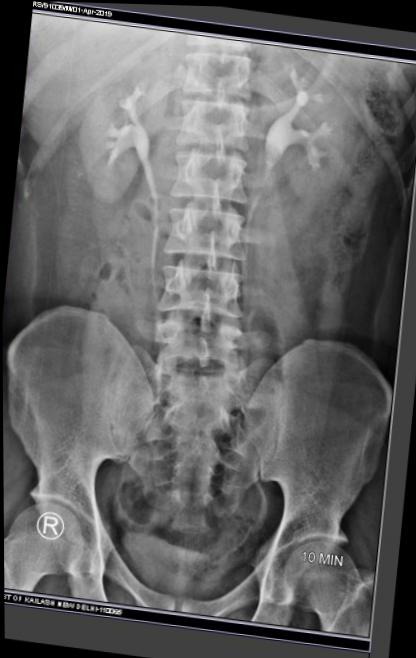left kidney: (276, 41, 384, 208)
right kidney: (66, 33, 174, 213)
vertebrae: (181, 78, 265, 141)
